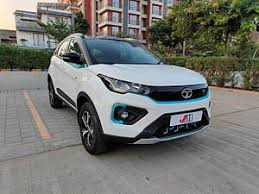Tata Nexon: (44, 31, 214, 157)
